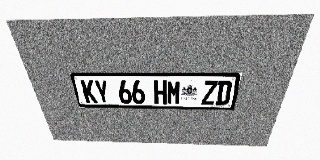6: (117, 80, 132, 104), (130, 80, 145, 104)
D: (215, 80, 233, 105)
H: (153, 80, 167, 104)
K: (80, 80, 98, 103)
M: (167, 80, 181, 104)
Y: (93, 80, 110, 103)
Z: (201, 80, 218, 105)
